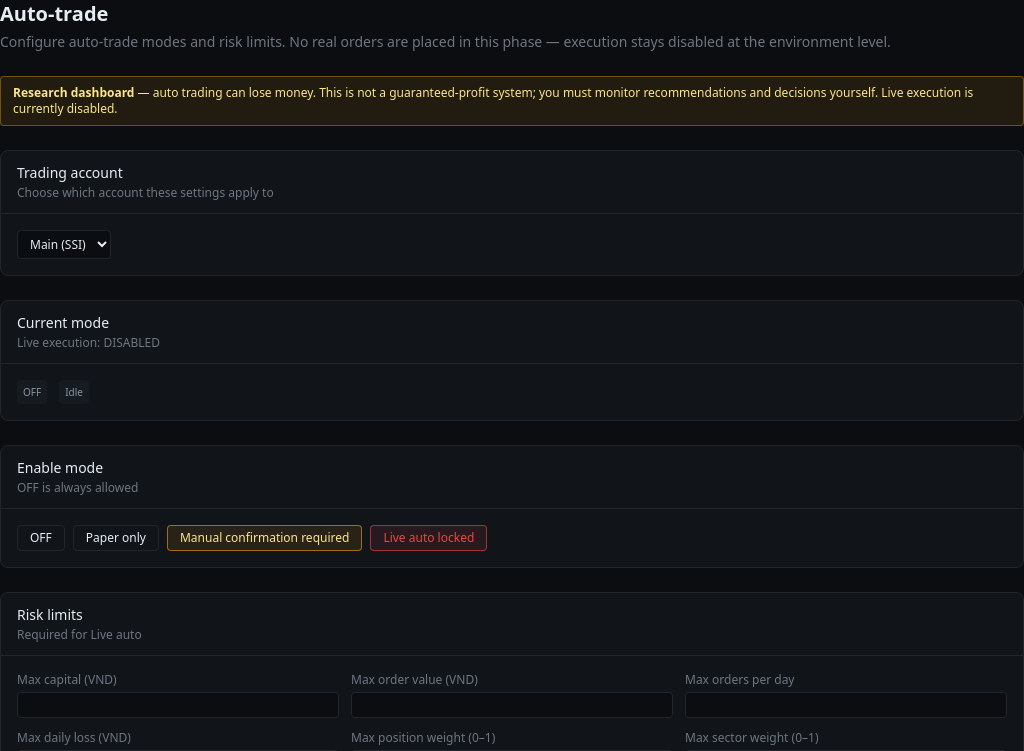
Test: AutoTradePage › confirms Live auto when the box is checked and the API returns VALID
Click the button with test id "btn-live-auto": [429, 538] box 370,525 -> 487,551
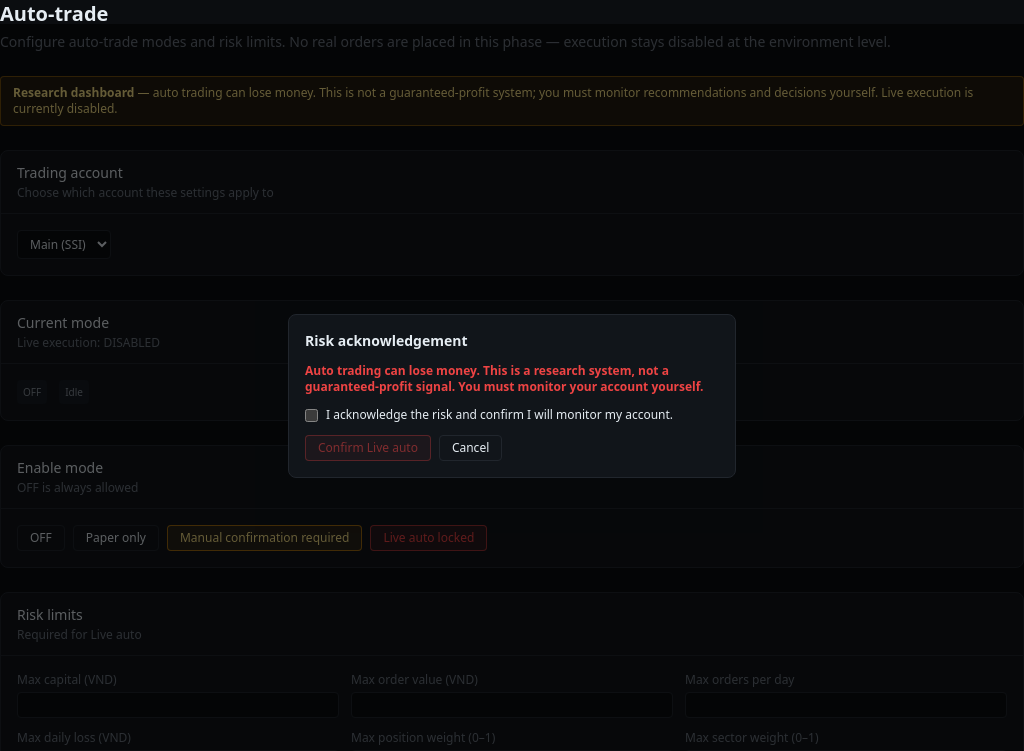
Expected: the checkbox with test id "risk-ack-checkbox" is shown
Click the checkbox with test id "risk-ack-checkbox": [312, 415] box 305,408 -> 318,422
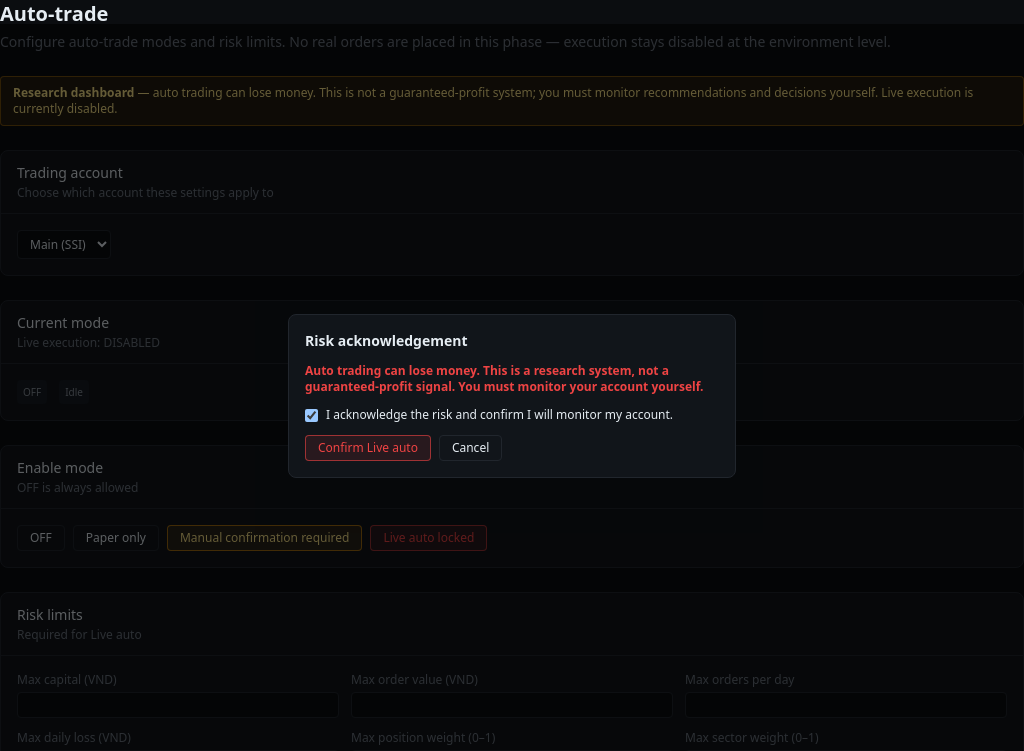
Click the button with test id "risk-ack-confirm": [368, 448] box 305,435 -> 431,461
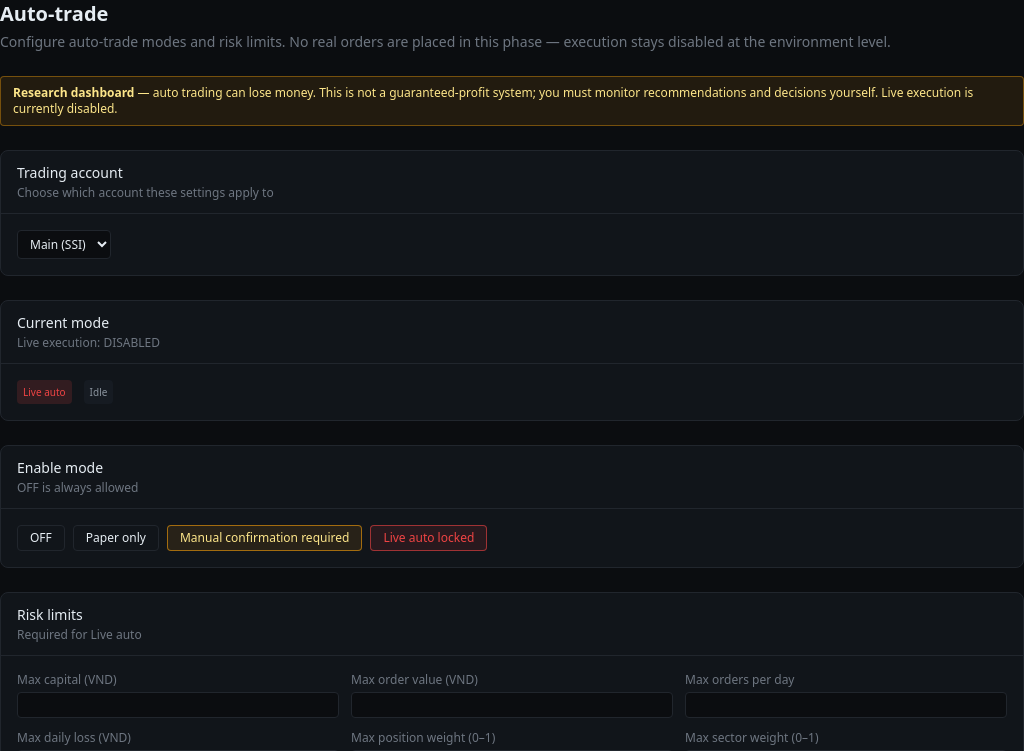
Expected: the text with test id "current-mode" reads "Live auto", 23,385 -> 66,399
